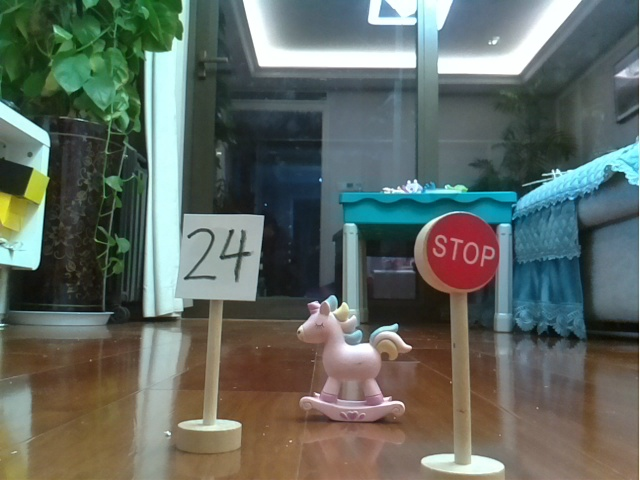Horse: (289, 291, 418, 426)
Speed Limit 24: (169, 209, 264, 460)
Stop Sign: (408, 208, 514, 480)
